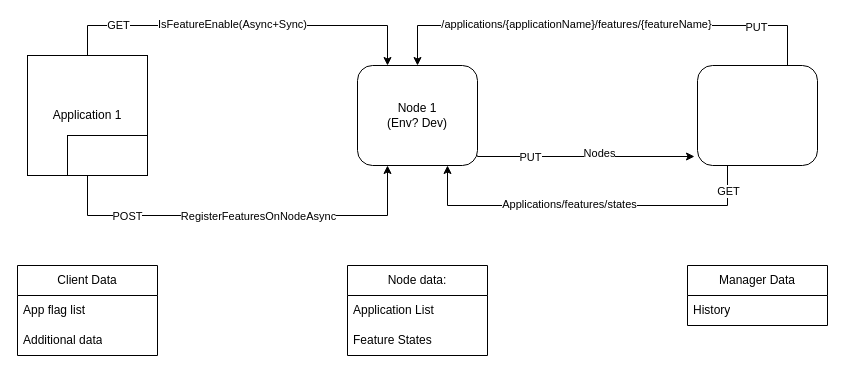
Some shapes in this 845 by 373 pixel diagram are drawn without their labels. Here are the shapes that lost their labels. From the top down, the centre of each, then its label:
At point (757, 115): "Manager".
At point (107, 155): "Nuget Client".
